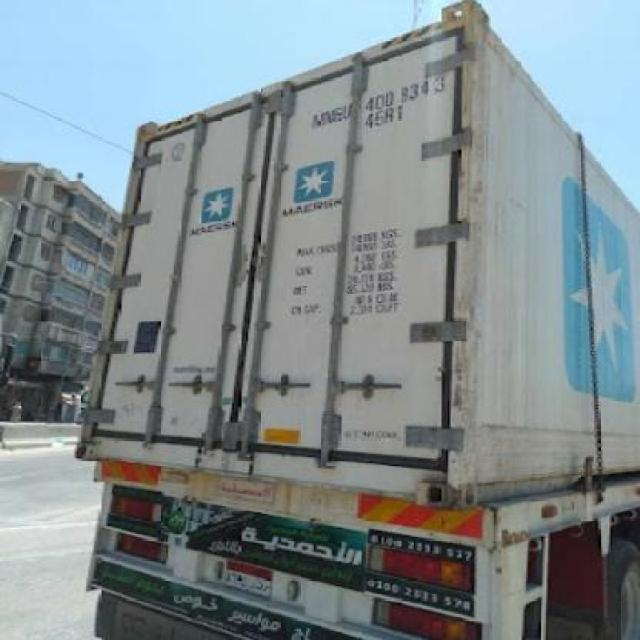ISO: (361, 109, 409, 129)
container_number: (310, 76, 454, 129)
